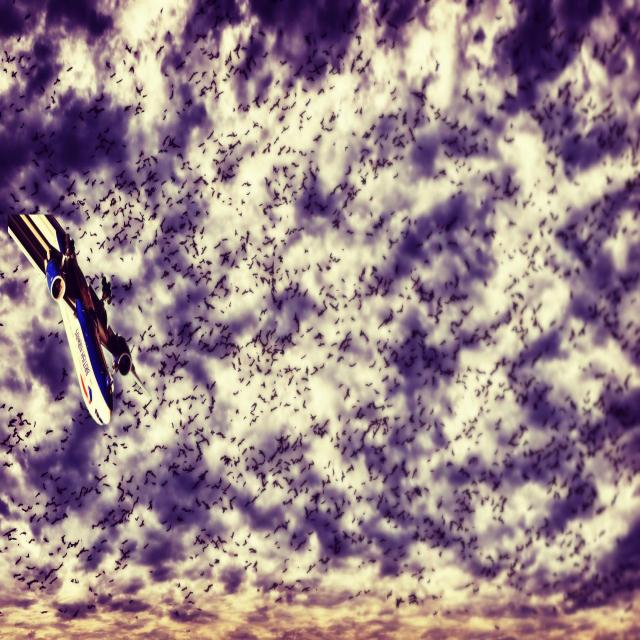airplane: (7, 210, 151, 426)
